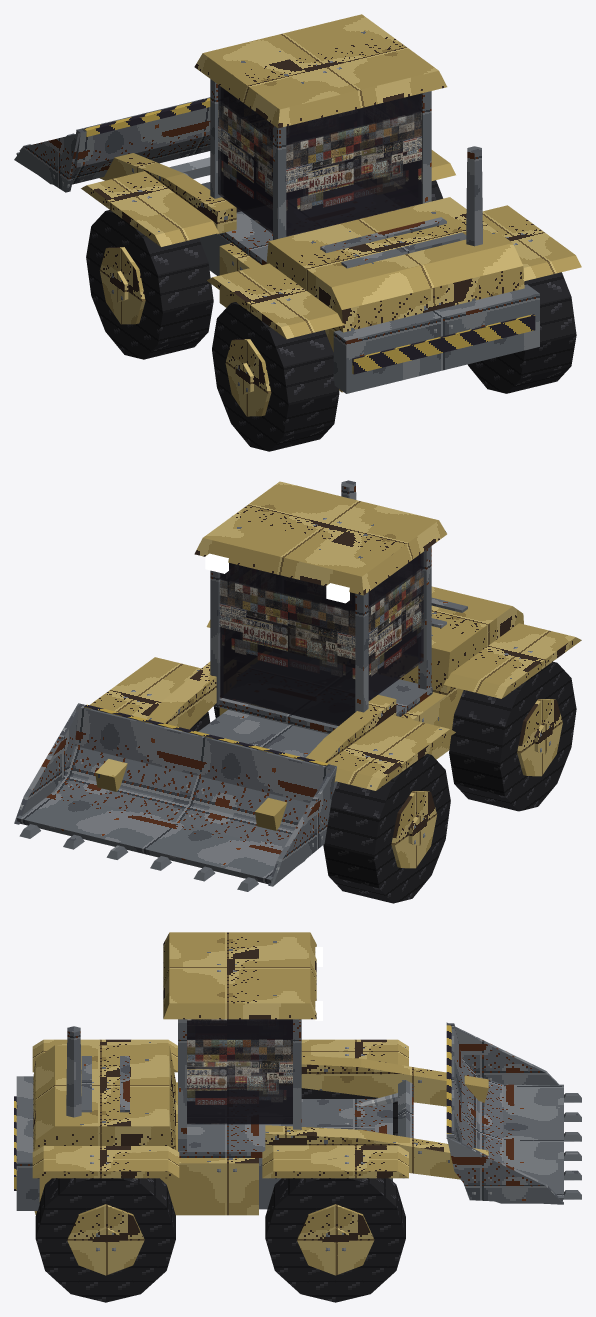
The model's file is vehicles__loader.glb.
3 views of the same model, one above another, from view 1: azimuth 30°, elevation 25°; view 2: azimuth 150°, elevation 25°; view 3: azimuth 270°, elevation 25° (orthographic). The views are drawn at different scales.
Parts seen in each view (by area): view 1: _MeshInstance3D_232, _MeshInstance3D_235, _MeshInstance3D_233, _MeshInstance3D_238, _MeshInstance3D_241, _MeshInstance3D_259, _MeshInstance3D_247, _MeshInstance3D_234, _MeshInstance3D_250, _MeshInstance3D_239, _MeshInstance3D_242, _MeshInstance3D_260; view 2: _MeshInstance3D_232, _MeshInstance3D_259, _MeshInstance3D_235, _MeshInstance3D_241, _MeshInstance3D_238, _MeshInstance3D_233, _MeshInstance3D_250, _MeshInstance3D_242, _MeshInstance3D_239, _MeshInstance3D_260, _MeshInstance3D_236; view 3: _MeshInstance3D_232, _MeshInstance3D_259, _MeshInstance3D_233, _MeshInstance3D_235, _MeshInstance3D_247, _MeshInstance3D_244, _MeshInstance3D_250, _MeshInstance3D_245, _MeshInstance3D_248, _MeshInstance3D_251, _MeshInstance3D_238, _MeshInstance3D_260.
Part boxes in pixels (bbox=[...]): _MeshInstance3D_232: bbox=[81, 14, 581, 392]; _MeshInstance3D_235: bbox=[218, 84, 421, 236]; _MeshInstance3D_233: bbox=[199, 79, 539, 393]; _MeshInstance3D_238: bbox=[86, 210, 213, 359]; _MeshInstance3D_241: bbox=[212, 302, 339, 451]; _MeshInstance3D_259: bbox=[14, 97, 210, 192]; _MeshInstance3D_247: bbox=[467, 272, 576, 393]; _MeshInstance3D_234: bbox=[352, 314, 535, 374]; _MeshInstance3D_250: bbox=[99, 153, 236, 234]; _MeshInstance3D_239: bbox=[99, 247, 145, 324]; _MeshInstance3D_242: bbox=[225, 339, 271, 416]; _MeshInstance3D_260: bbox=[84, 98, 210, 136]; _MeshInstance3D_232: bbox=[89, 481, 581, 790]; _MeshInstance3D_259: bbox=[14, 703, 336, 891]; _MeshInstance3D_235: bbox=[219, 552, 423, 725]; _MeshInstance3D_241: bbox=[449, 662, 576, 811]; _MeshInstance3D_238: bbox=[323, 753, 450, 903]; _MeshInstance3D_233: bbox=[198, 480, 467, 795]; _MeshInstance3D_250: bbox=[95, 661, 396, 830]; _MeshInstance3D_242: bbox=[517, 699, 562, 776]; _MeshInstance3D_239: bbox=[391, 791, 437, 868]; _MeshInstance3D_260: bbox=[84, 704, 328, 766]; _MeshInstance3D_236: bbox=[205, 553, 349, 603]; _MeshInstance3D_232: bbox=[32, 932, 408, 1215]; _MeshInstance3D_259: bbox=[446, 1022, 581, 1204]; _MeshInstance3D_233: bbox=[16, 1019, 392, 1210]; _MeshInstance3D_235: bbox=[187, 1019, 292, 1124]; _MeshInstance3D_247: bbox=[35, 1178, 175, 1302]; _MeshInstance3D_244: bbox=[265, 1178, 405, 1302]; _MeshInstance3D_250: bbox=[265, 1055, 488, 1179]; _MeshInstance3D_245: bbox=[297, 1204, 374, 1275]; _MeshInstance3D_248: bbox=[67, 1204, 144, 1275]; _MeshInstance3D_251: bbox=[398, 1080, 413, 1138]; _MeshInstance3D_238: bbox=[301, 1088, 397, 1135]; _MeshInstance3D_260: bbox=[446, 1025, 451, 1138].
Size of the model in its own units: 2.5 by 2.34 by 4.45.
8 materials, 7 textured.
